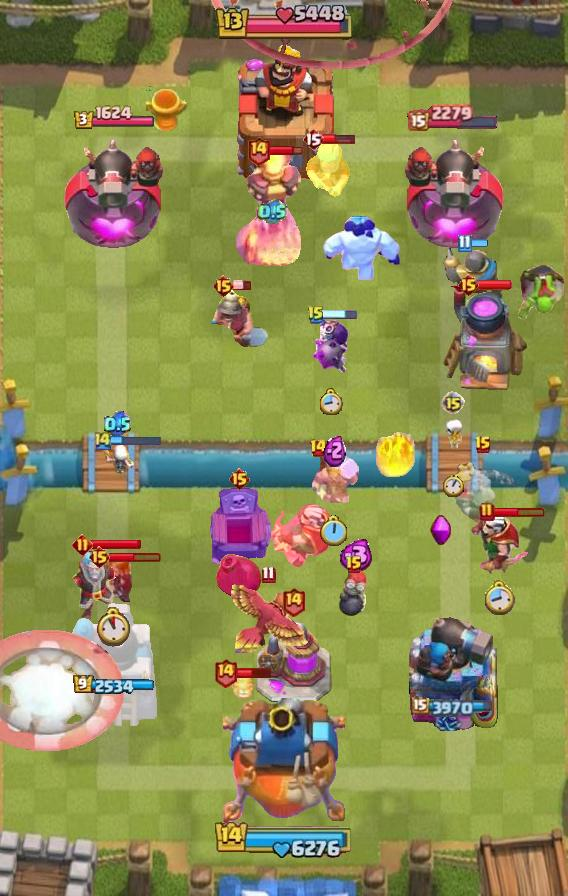baby-dragon: (213, 549, 265, 603)
bandit: (202, 284, 270, 350)
bar-level: (517, 261, 567, 321)
clock: (214, 819, 354, 859), (213, 5, 355, 43)
electro-dragon: (233, 147, 311, 273)
electro-spirit: (334, 539, 373, 571), (257, 199, 286, 225), (322, 434, 345, 466), (104, 410, 131, 437)
elixir: (94, 607, 132, 647), (482, 578, 515, 615), (320, 516, 348, 548), (319, 389, 343, 416), (444, 475, 465, 498)
elixir-golem-mid: (204, 487, 274, 573)
emote: (493, 506, 547, 518), (110, 551, 163, 563), (111, 435, 163, 447), (90, 538, 142, 550), (235, 665, 272, 679), (268, 144, 304, 156), (477, 279, 513, 291), (322, 309, 358, 321), (321, 133, 354, 145), (468, 238, 487, 249), (232, 280, 251, 291)
firecracker: (441, 248, 503, 298)
goblin-ball: (311, 318, 351, 376)
golden-knight: (227, 581, 309, 653)
heal-spirit: (98, 440, 136, 480), (439, 417, 467, 449)
hog-rider: (89, 554, 137, 604)
hunter: (439, 286, 529, 394)
ice-golem: (338, 567, 370, 617)
ice-spirit-evolution: (232, 670, 254, 700)
king-tower: (223, 698, 345, 826), (230, 43, 338, 181)
mighty-miner: (307, 451, 361, 505)
mortar: (60, 549, 136, 625), (304, 135, 352, 199)
mortar-evolution: (451, 457, 515, 529)
pekka: (254, 622, 332, 704)
rage: (316, 212, 402, 280)
selected: (408, 103, 501, 131), (72, 105, 155, 131), (73, 675, 155, 697), (413, 695, 496, 716)
skeleton-barrel: (206, 0, 458, 70)
skeleton-king: (264, 499, 336, 571), (462, 511, 534, 577)
skeleton-king-skill: (430, 514, 452, 548)
text: (245, 135, 270, 166), (282, 587, 307, 617), (213, 657, 238, 687), (441, 391, 465, 415), (457, 273, 480, 297), (212, 274, 235, 298), (228, 467, 251, 491), (88, 545, 111, 569), (302, 127, 324, 151), (71, 533, 92, 555), (93, 429, 113, 450), (308, 438, 327, 458), (307, 305, 325, 325), (474, 435, 492, 455), (345, 555, 363, 575), (479, 502, 495, 522), (456, 234, 471, 253), (261, 565, 275, 583)
tower-bar: (60, 132, 167, 256), (401, 132, 508, 256), (69, 599, 159, 731), (407, 611, 499, 731)
valkyrie: (371, 428, 419, 480)
wall-breaker: (0, 628, 124, 751)
